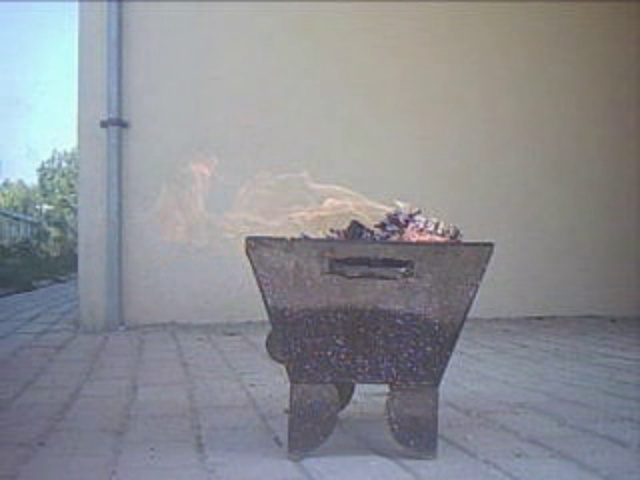fire: (254, 166, 380, 241)
